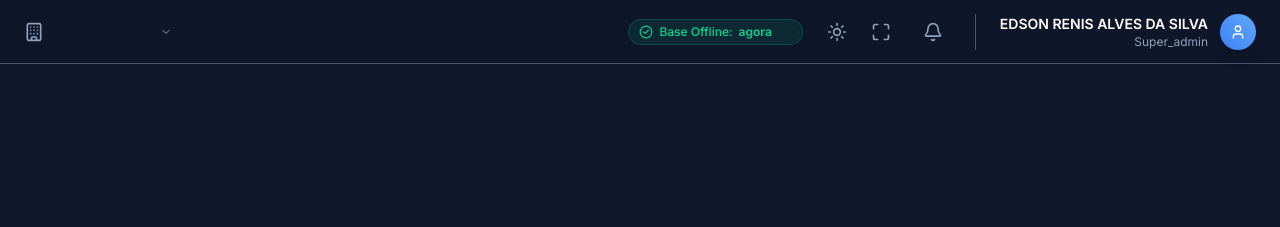
Scenario: menu do usuário no Topbar › um clique na área do usuário abre o menu — não desloga mais direto
The width and height of the screenshot is (1280, 227).
Click the button titled "Minha conta". click: (1115, 32)
box: [975, 14, 1256, 50]
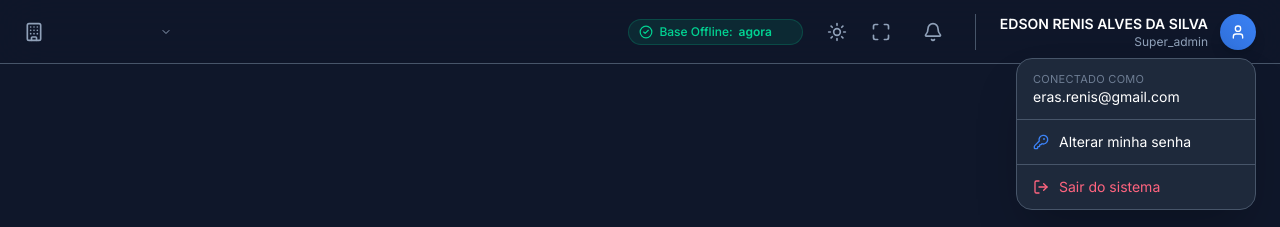
Expected: the menu is shown, [1016, 58, 1256, 210]
